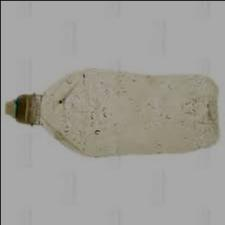Plastic: (2, 66, 219, 161)
